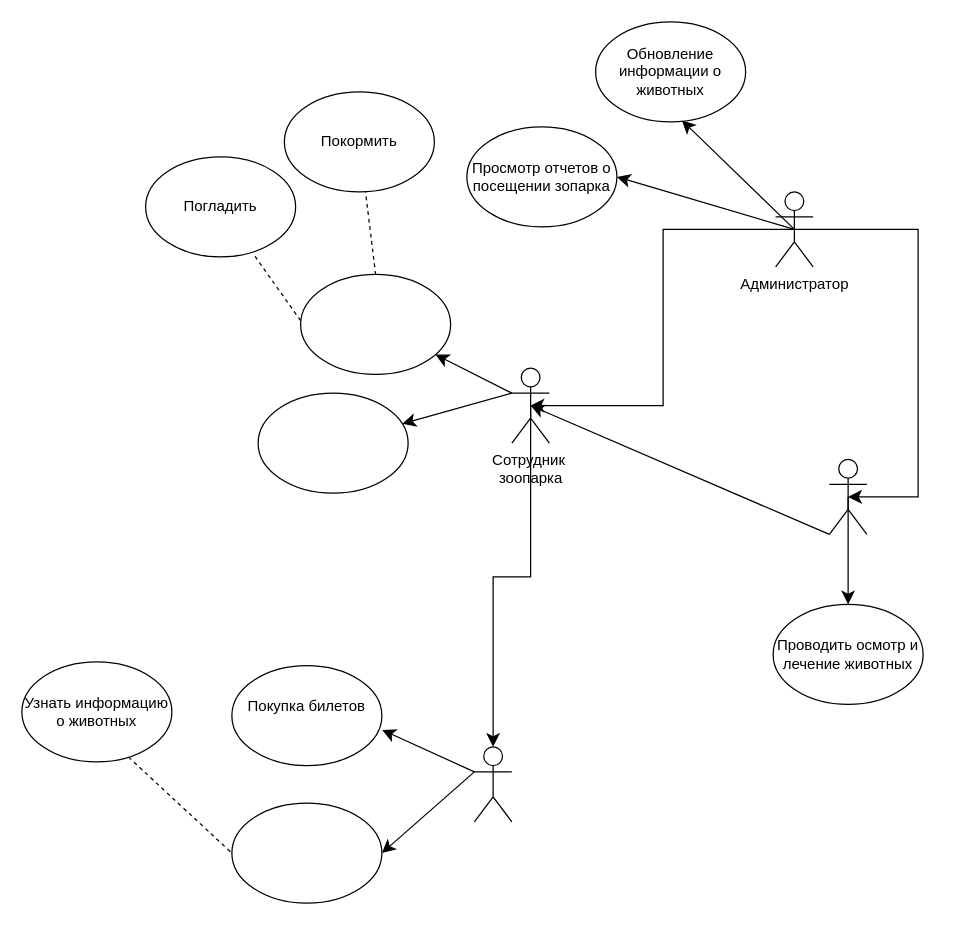
Some shapes in this 953 by 925 pixel diagram are drawn without their labels. The box of each missing label's shape, as (x1, y1, x2, y2) in pixels:
Ветеринар: (828, 458, 867, 534)
Посетитель: (473, 746, 512, 822)
Проводить экскурсии: (257, 392, 408, 493)
Смотреть на животных: (231, 802, 382, 903)
Уход за животными: (299, 273, 451, 374)
